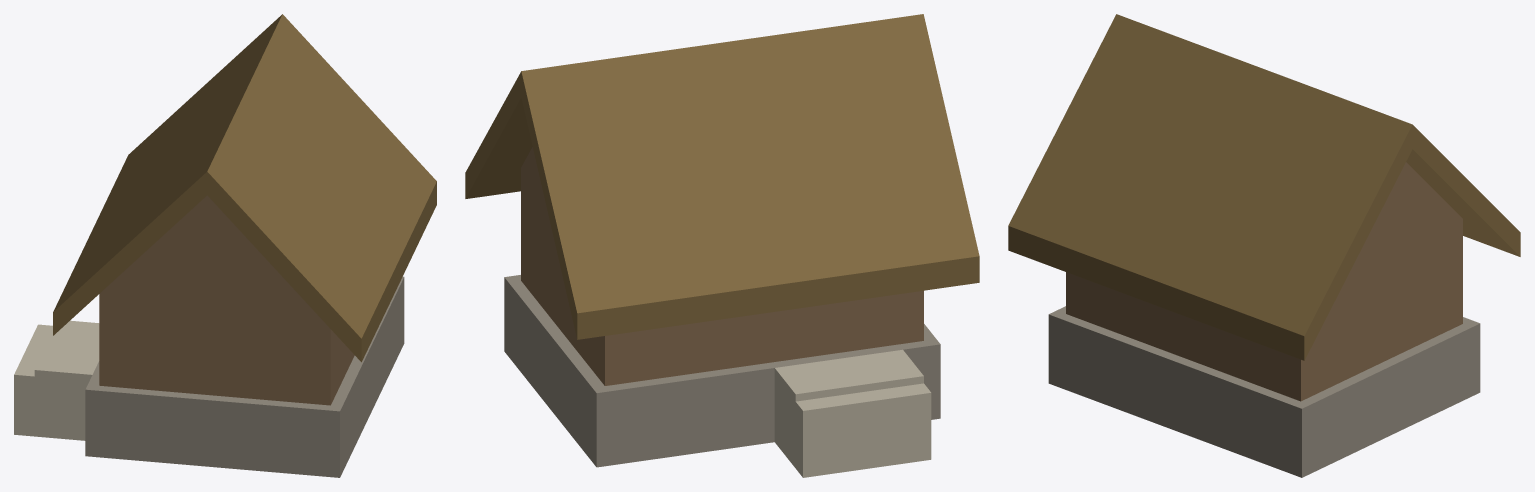
The model's file is SM_FishersCove_House5.fbx.
The picture shows the model from 3 angles, left to right: view 1: azimuth 30°, elevation 25°; view 2: azimuth 150°, elevation 25°; view 3: azimuth 270°, elevation 25°; orthographic projection. The views are drawn at different scales.
Visible parts, largest first — view 1: SM_FishersCove_House5; view 2: SM_FishersCove_House5; view 3: SM_FishersCove_House5.
Boxes of the visible parts, x1=… form: SM_FishersCove_House5: x1=14, y1=14, x2=436, y2=477; SM_FishersCove_House5: x1=465, y1=14, x2=979, y2=477; SM_FishersCove_House5: x1=1008, y1=14, x2=1520, y2=477.
Size of the model in its own units: 7.44 by 5.16 by 7.52.
